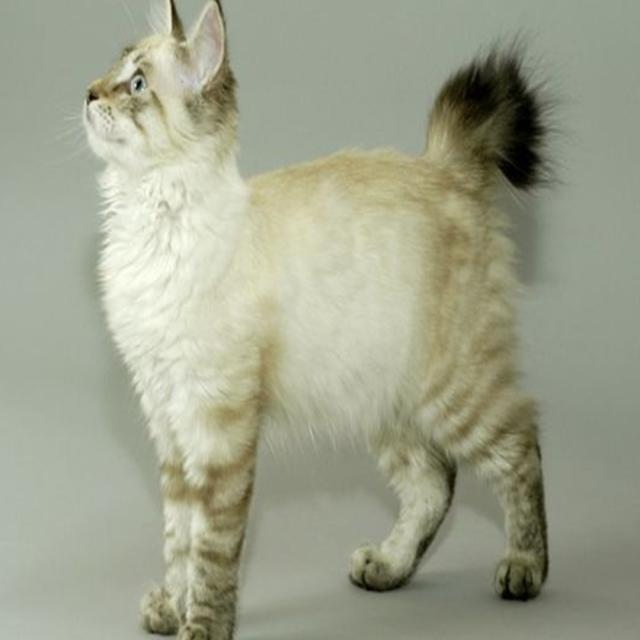American Bobtail: (80, 0, 552, 640)
